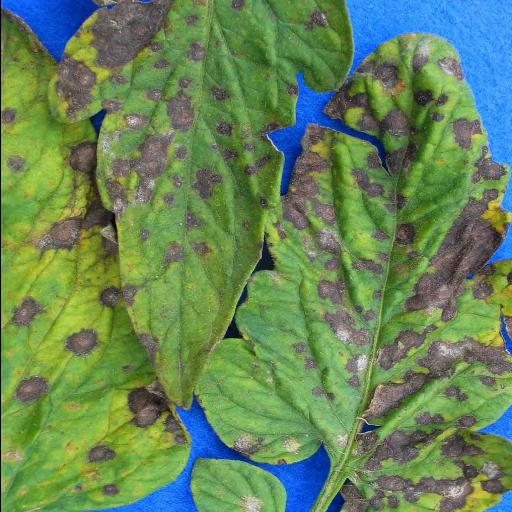Septoria: (201, 31, 512, 512), (42, 0, 364, 422), (1, 2, 195, 512)
